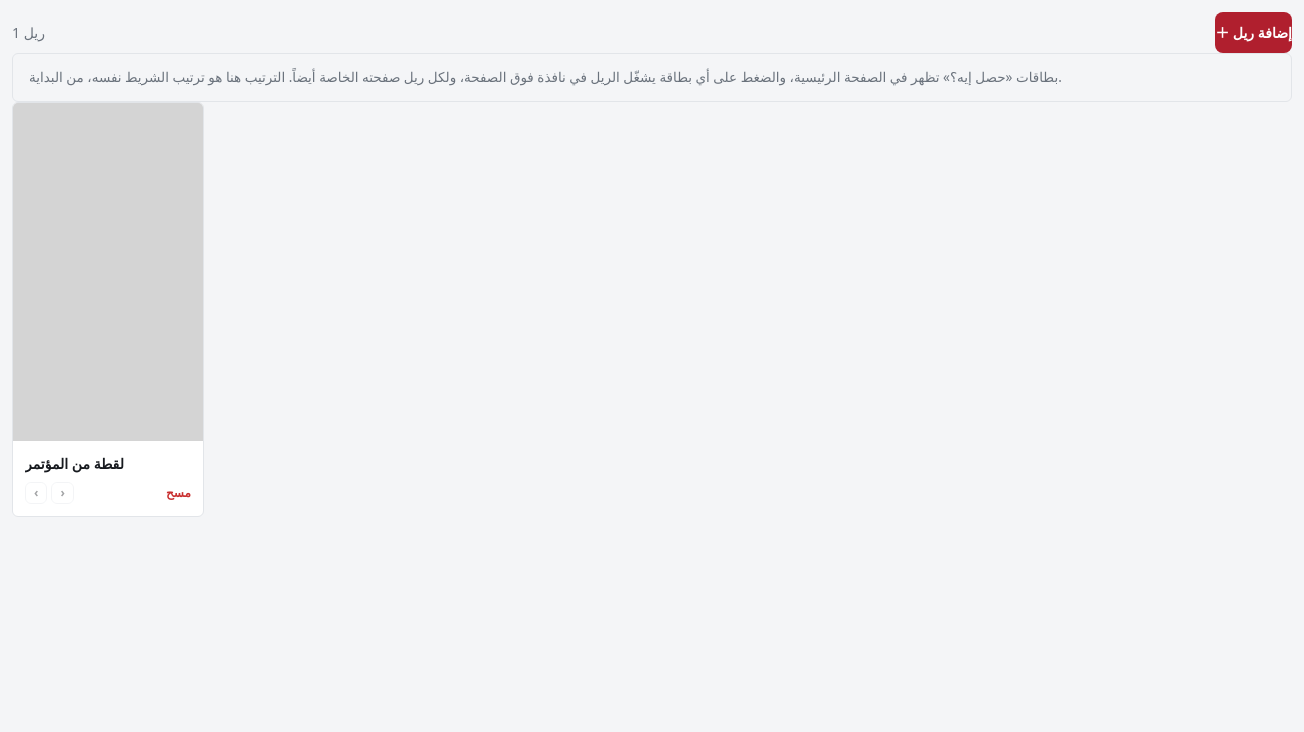
ReelsManager › asks before deleting, and restores the card if the delete fails
The image size is (1304, 732).
What coordinates should you click on to do the following:
click the button "مسح"
I would click on:
 (179, 493)
Its box is [166,485,191,501].
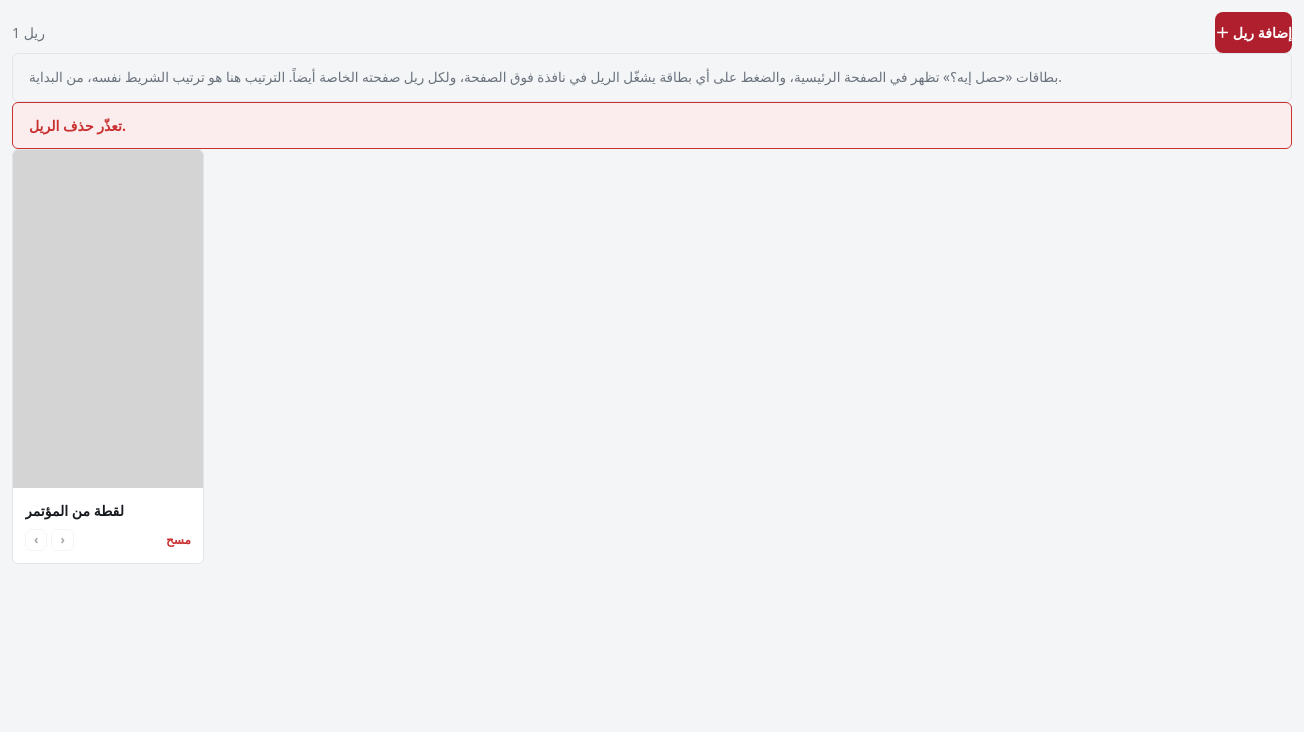
Expected: the text "لقطة من المؤتمر" is shown, [25,501,124,520]
Now the message reads "تعذّر حذف الريل.", box [29,116,126,135]
